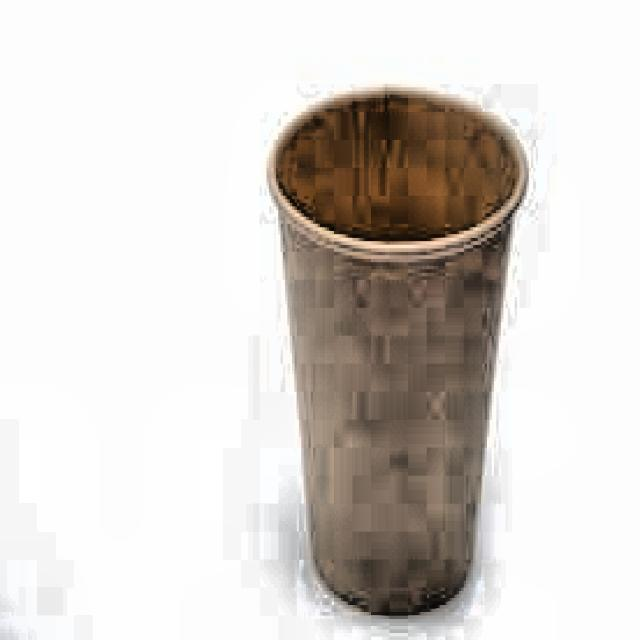Cup: (263, 76, 526, 632)
